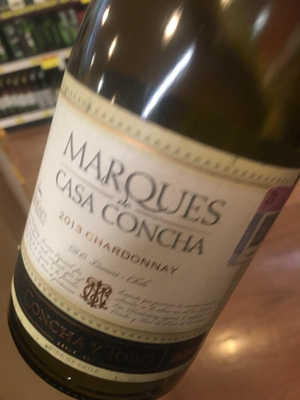marques de casa concha chardonnay: (20, 31, 300, 398)
